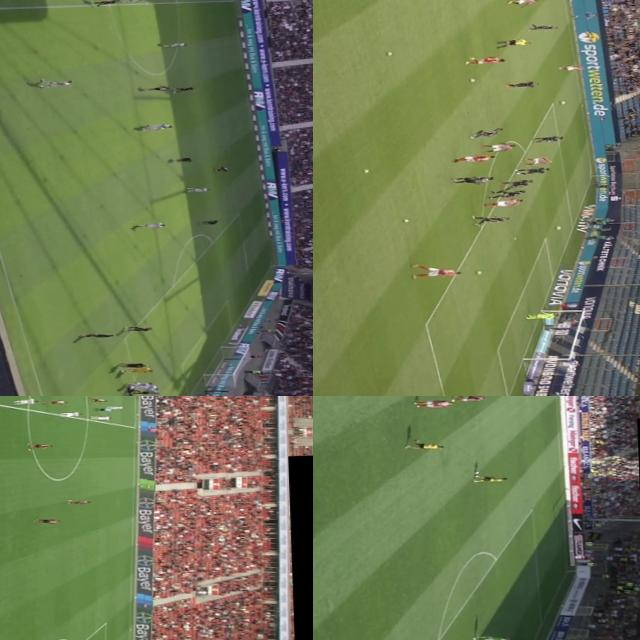ball: (118, 367, 126, 373), (384, 50, 392, 56), (468, 77, 478, 81), (473, 469, 481, 474), (402, 218, 410, 222), (554, 225, 562, 229), (362, 169, 368, 173), (560, 100, 566, 104), (477, 270, 483, 274)
player: (412, 264, 460, 276), (468, 126, 502, 139), (406, 438, 446, 448), (482, 141, 516, 152), (79, 330, 116, 340), (463, 55, 504, 64), (138, 121, 174, 131), (417, 398, 452, 408), (38, 77, 76, 86), (118, 365, 156, 374), (133, 122, 167, 132), (113, 358, 146, 368), (453, 154, 494, 162), (119, 379, 155, 388), (492, 188, 528, 197), (454, 174, 494, 182), (136, 219, 170, 228), (484, 198, 522, 206), (472, 215, 510, 223), (504, 178, 534, 188), (182, 184, 215, 193), (469, 633, 511, 640), (516, 166, 552, 174), (126, 322, 154, 332), (140, 83, 170, 92), (168, 82, 198, 91), (506, 80, 538, 88), (525, 312, 557, 320), (471, 472, 507, 479), (533, 134, 563, 142), (156, 41, 190, 48), (206, 164, 232, 172), (526, 156, 552, 164), (27, 442, 53, 450), (195, 218, 223, 225), (132, 383, 160, 390), (530, 24, 558, 31), (34, 517, 62, 524), (168, 156, 196, 162), (560, 63, 584, 70), (58, 409, 81, 416), (123, 384, 136, 396), (43, 398, 69, 404), (90, 414, 112, 421), (13, 398, 38, 404), (66, 498, 92, 503), (505, 0, 537, 4), (87, 0, 125, 3), (104, 404, 126, 409), (452, 396, 488, 399), (89, 397, 108, 402), (120, 0, 152, 2)
